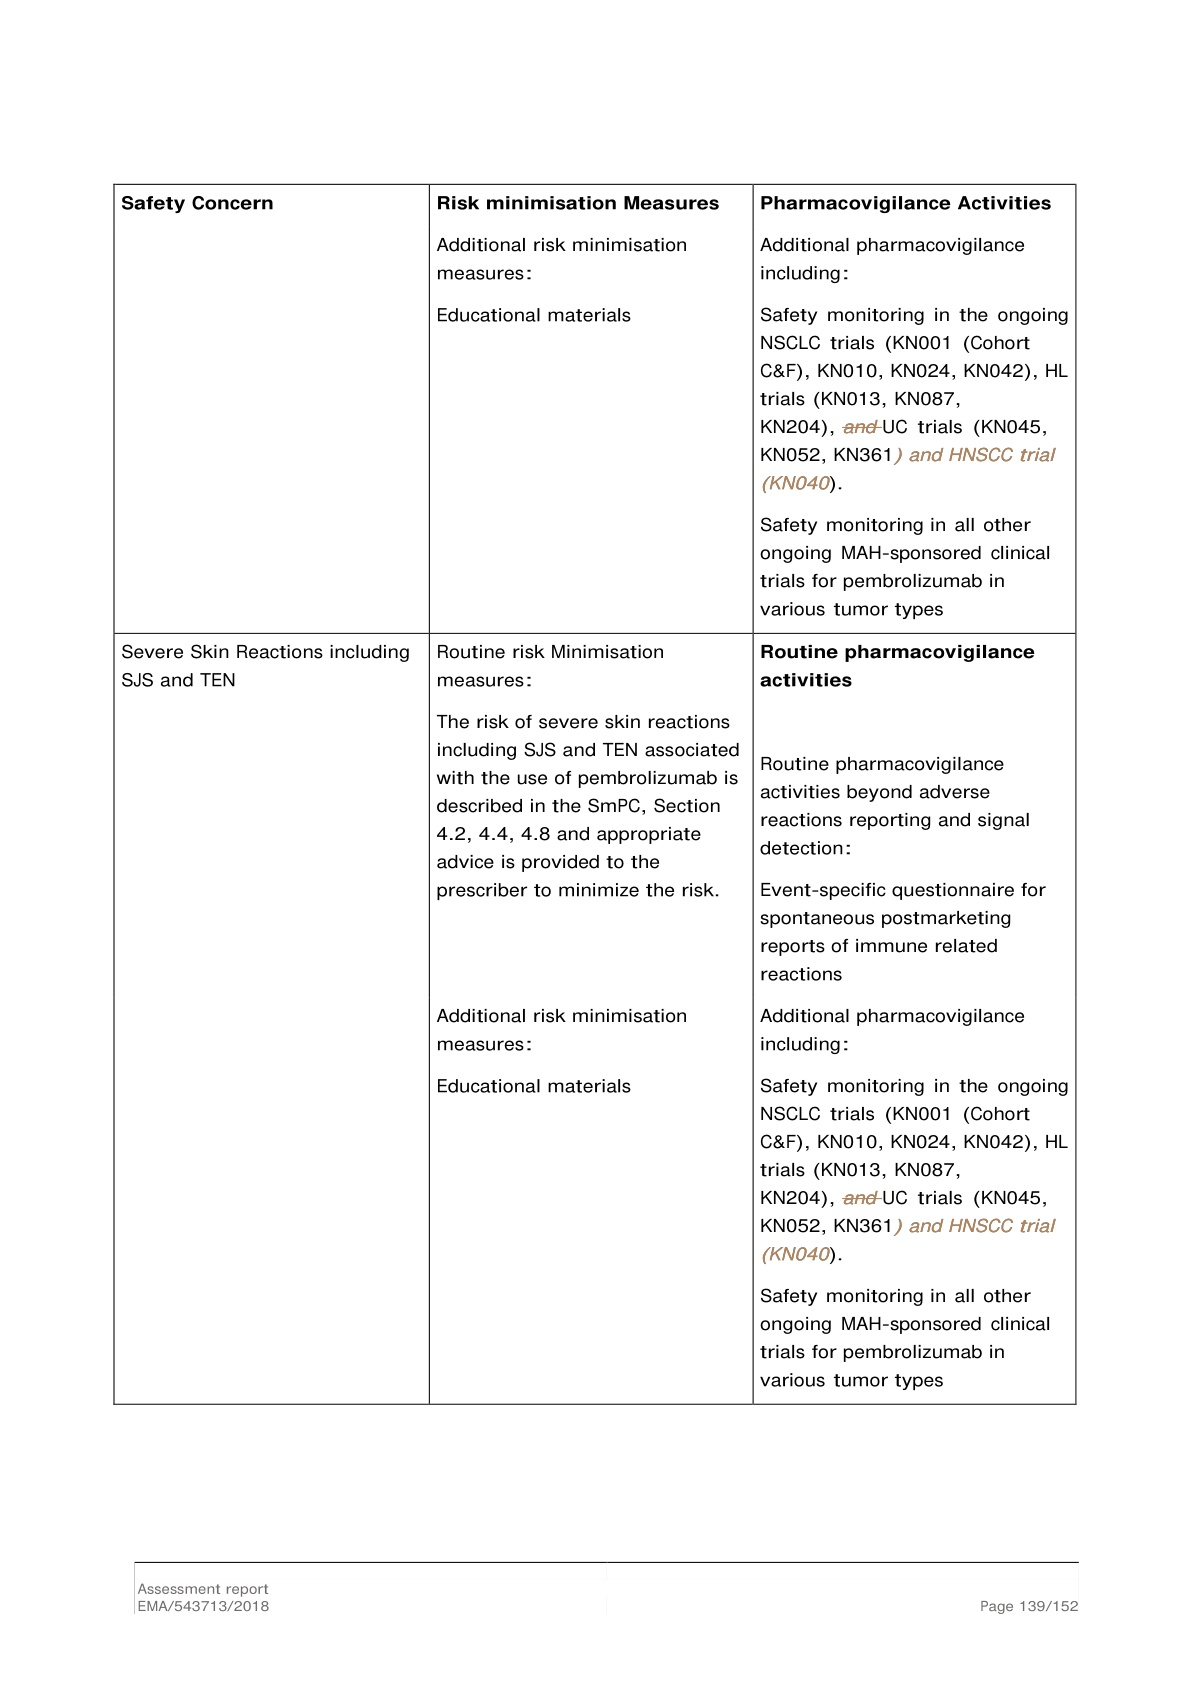full_lined: (113, 183, 1077, 1406)
